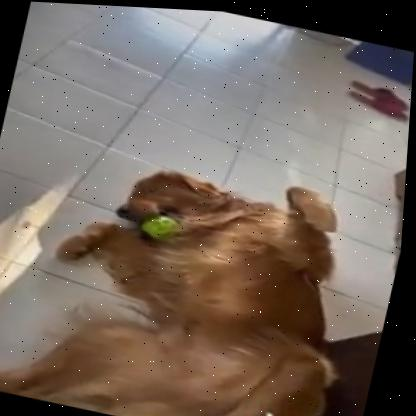dog: (0, 131, 406, 416)
